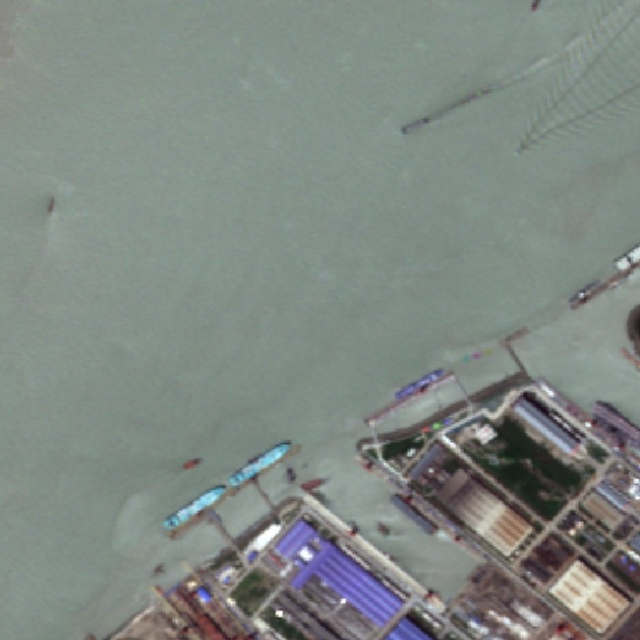wake: (486, 43, 636, 187)
